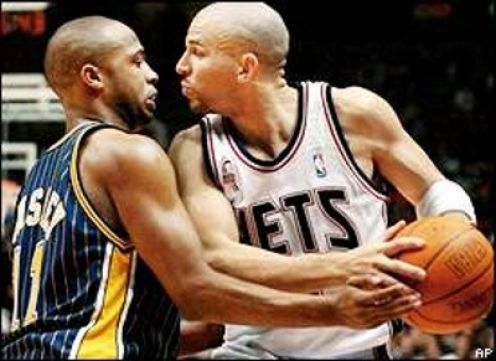basketball: (389, 215, 496, 334)
